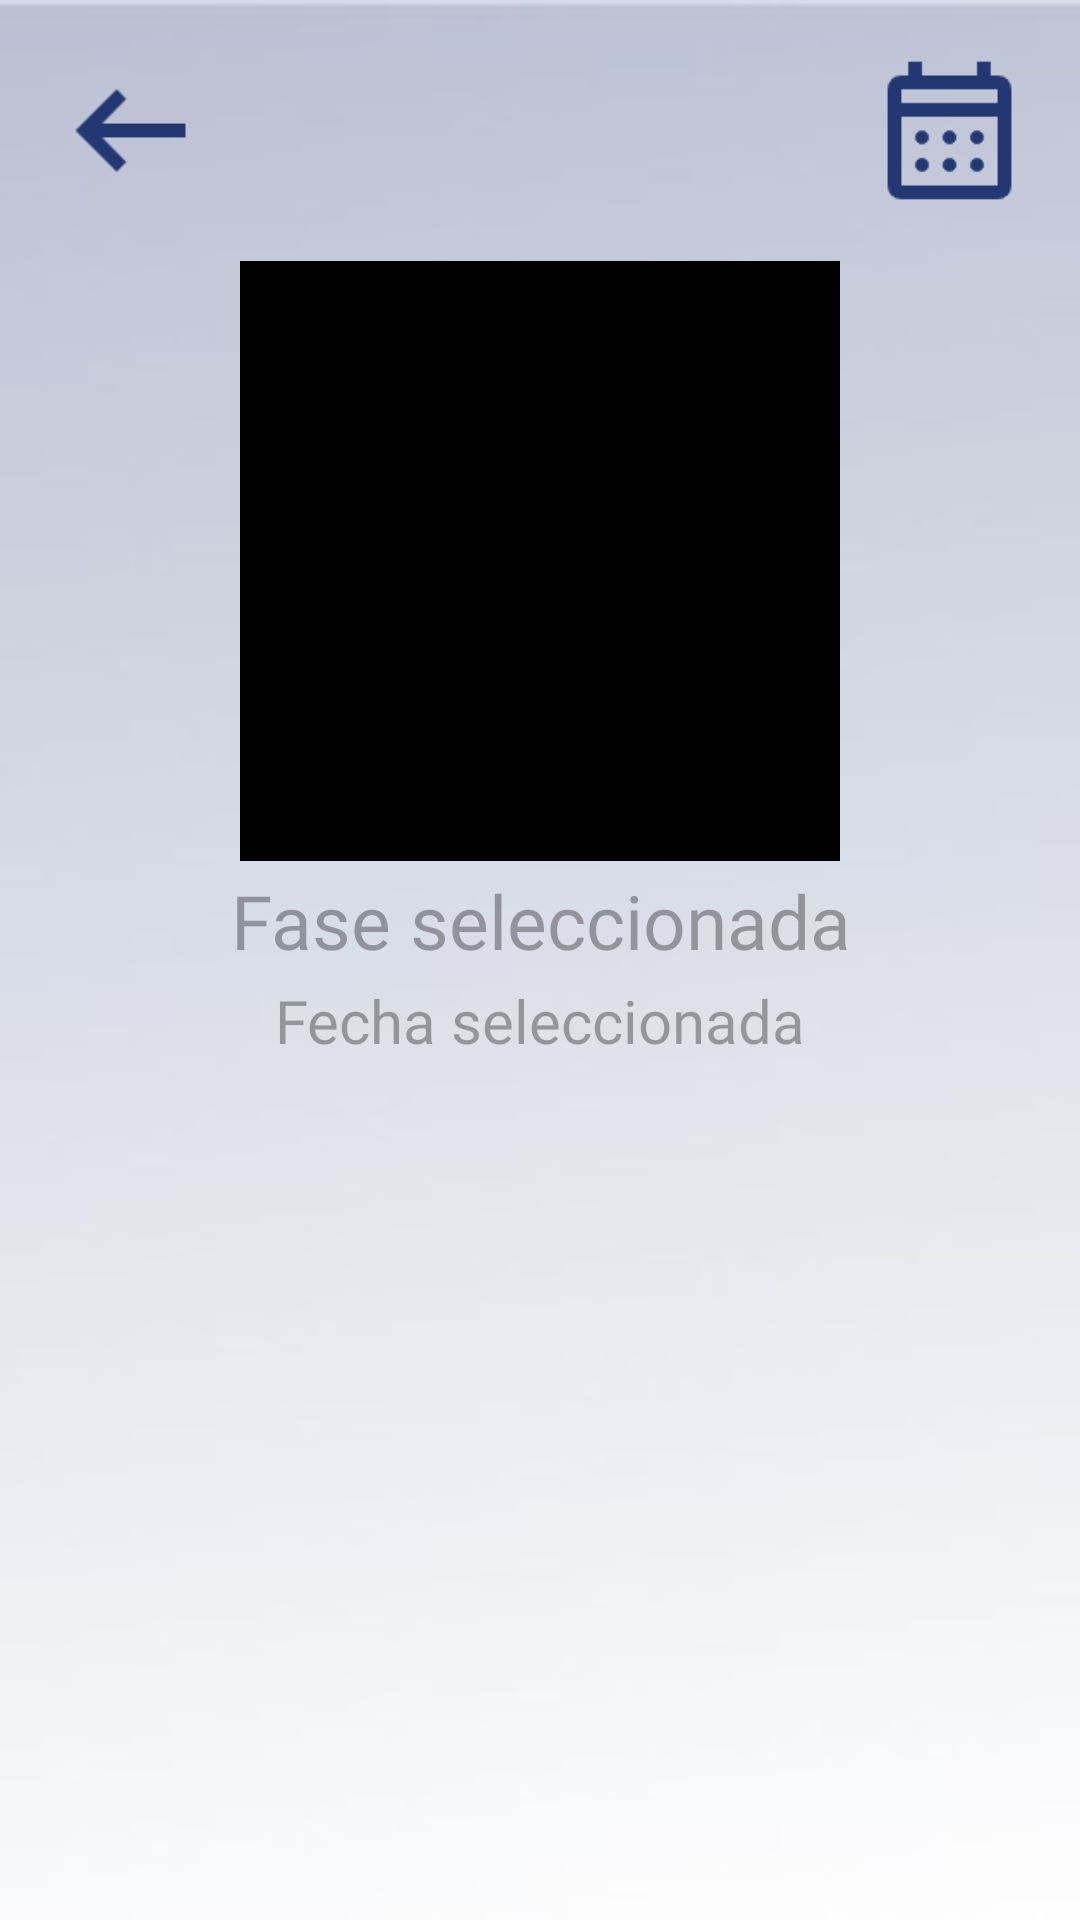

Locate icon controls on the screen. Image size 1080w x 1920h, boxes as (x1, y1, x2, y2).
icoatras: (75, 89, 186, 172)
icocalendario: (887, 61, 1012, 200)
